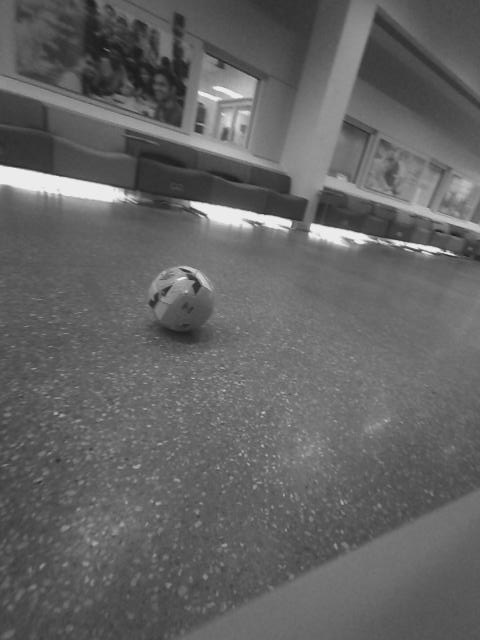ball: (140, 258, 221, 338)
